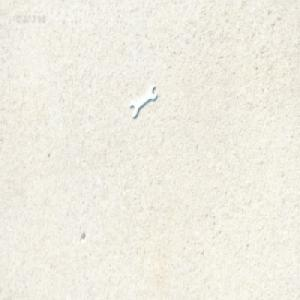Wrench: (129, 84, 158, 118)
